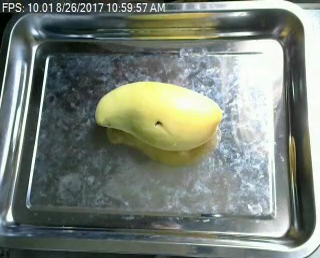Mango: (91, 77, 225, 152)
